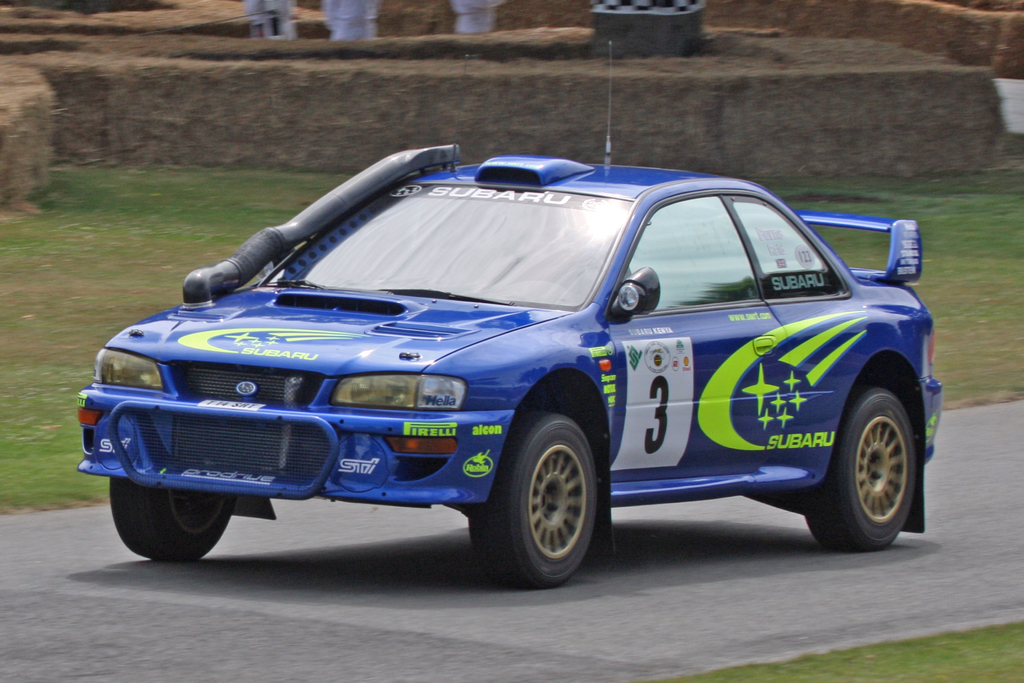Car: (79, 41, 943, 585)
